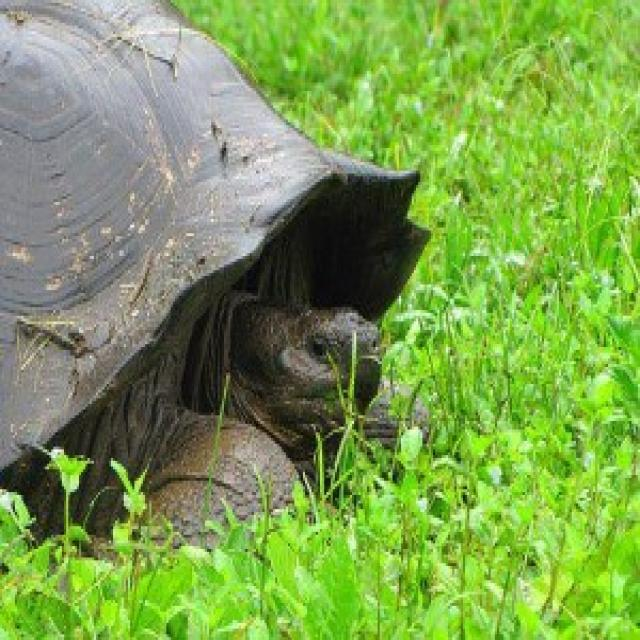Sea turtle: (0, 10, 476, 640)
